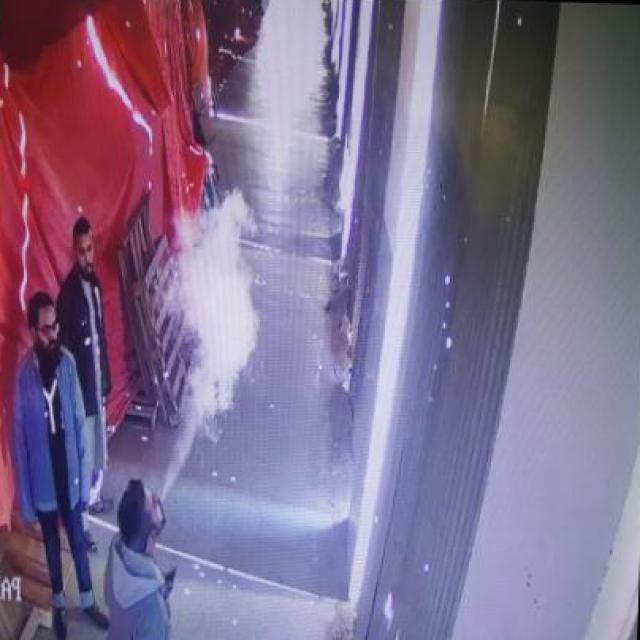fire: (160, 182, 266, 501)
